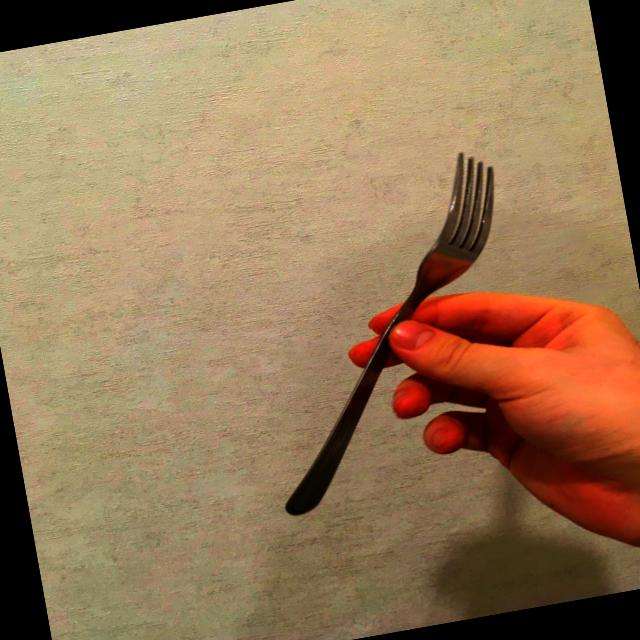fork: (229, 147, 548, 518)
